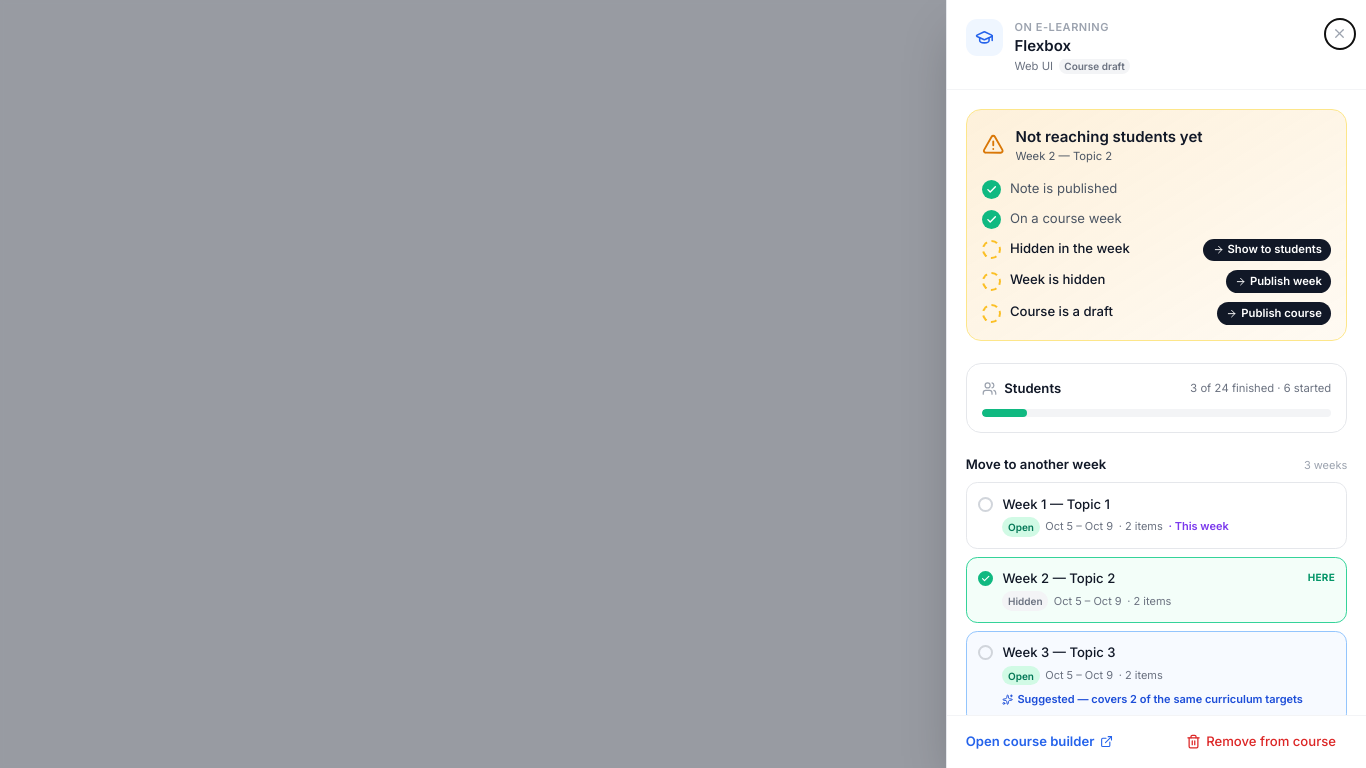
NoteElearningPanel › removes the note from the course after confirming
The width and height of the screenshot is (1366, 768).
Click the button "Remove from course" at (1261, 742), box [1174,727,1347,757]
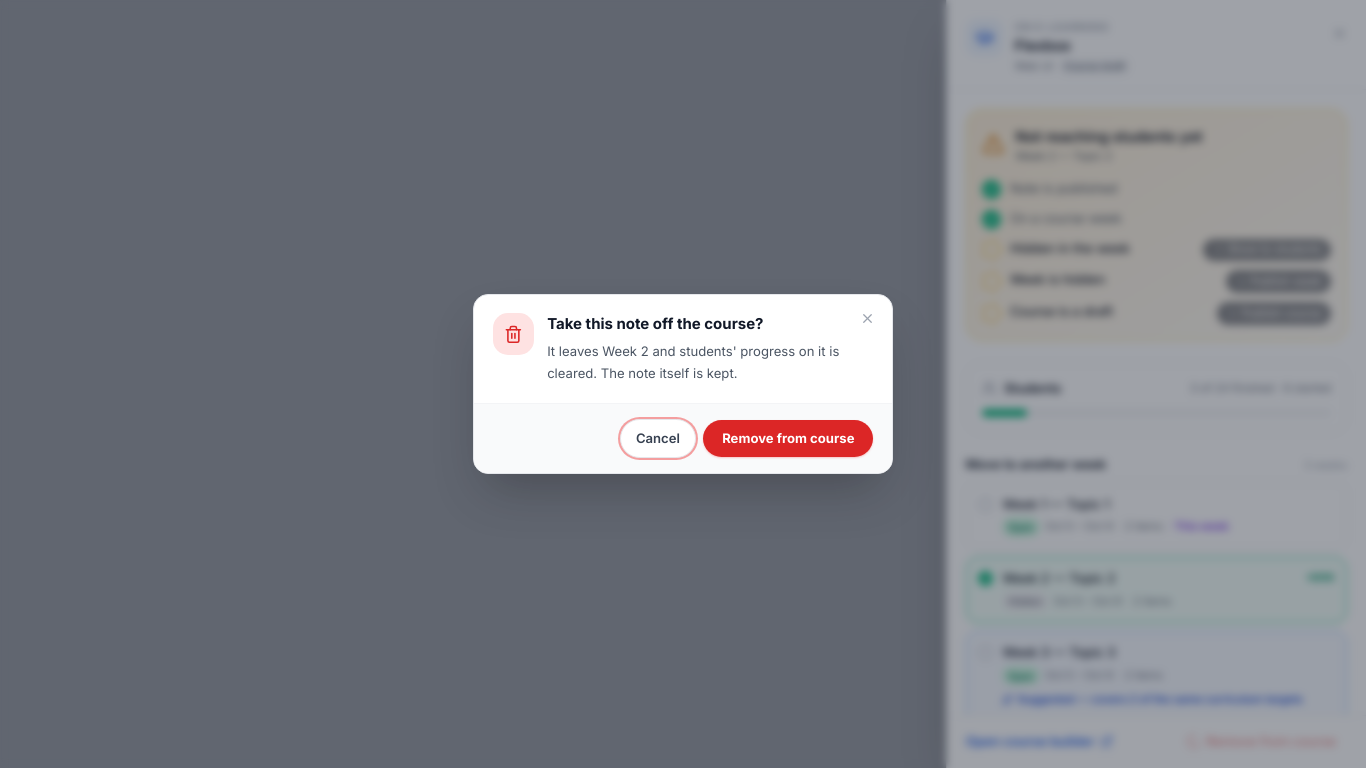
Result: the heading "Take this note off the course?" is shown at [547,314,764,333]
Click the button "Remove from course" at (788, 439), box [703,420,873,457]
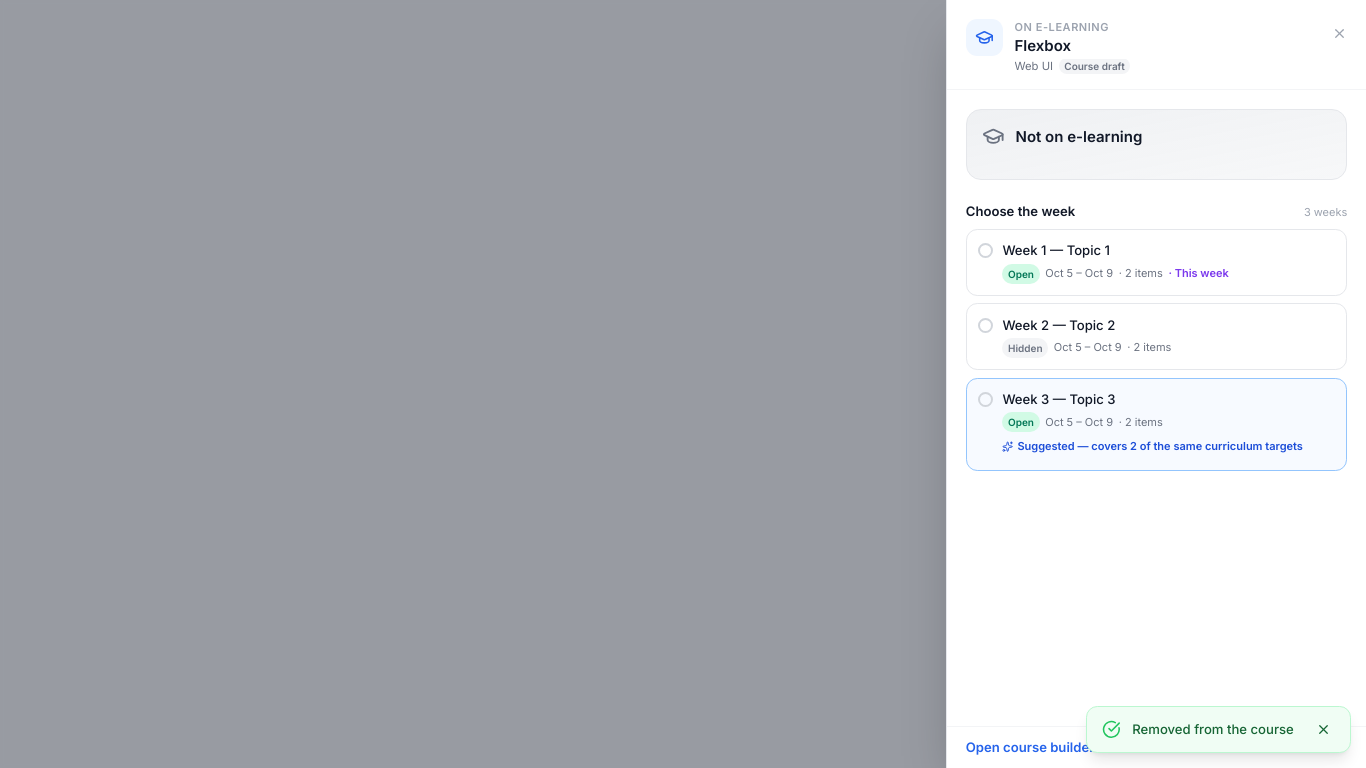
Result: the text "Not on e-learning" is shown at [1016,125,1142,149]
